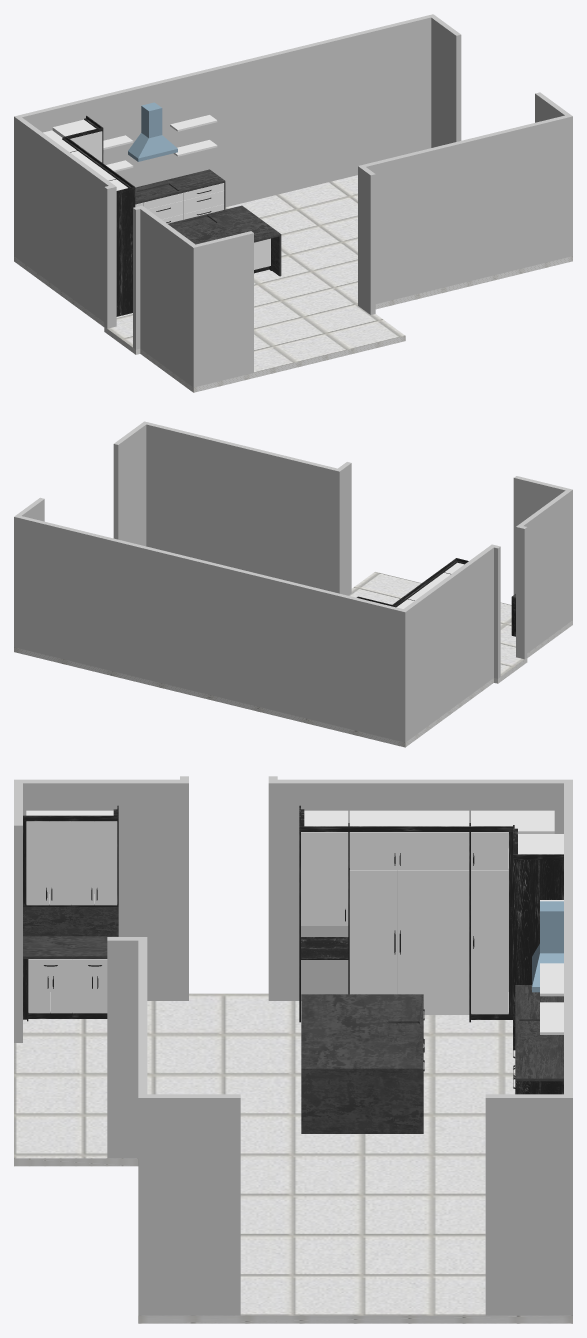
The picture shows the model from 3 angles, top to bottom: view 1: azimuth 30°, elevation 25°; view 2: azimuth 150°, elevation 25°; view 3: azimuth 270°, elevation 25°; orthographic projection. The views are drawn at different scales.
Parts seen in each view (by area): view 1: Layer:wall, Layer:wall.001, Layer:countertop, Layer:doors, Layer:cabinets, Layer:fillers, Layer:hatch, Layer:buildup; view 2: Layer:wall, Layer:wall.001, Layer:buildup, Layer:cabinets; view 3: Layer:wall, Layer:wall.001, Layer:doors, Layer:countertop, Layer:cabinets, Layer:fillers.001, Layer:fillers, Layer:countertop.001, Layer:buildup, Layer:hatch, Layer:LV, Layer:kick.
Part boxes in pixels (x1,y1,x2,y2): Layer:wall: (14, 14, 572, 387); Layer:wall.001: (14, 175, 572, 392); Layer:countertop: (135, 169, 281, 244); Layer:doors: (70, 131, 270, 269); Layer:cabinets: (43, 115, 217, 190); Layer:fillers: (70, 131, 271, 316); Layer:hatch: (128, 102, 177, 161); Layer:buildup: (62, 115, 135, 194); Layer:wall: (14, 421, 572, 742); Layer:wall.001: (14, 572, 572, 747); Layer:buildup: (356, 558, 468, 607); Layer:cabinets: (396, 562, 464, 608); Layer:wall: (14, 776, 572, 1315); Layer:wall.001: (14, 993, 572, 1323); Layer:doors: (26, 821, 508, 1014); Layer:countertop: (23, 936, 563, 1081); Layer:cabinets: (26, 810, 563, 1034); Layer:fillers.001: (301, 1068, 423, 1133); Layer:fillers: (23, 821, 563, 1094); Layer:countertop.001: (23, 907, 118, 936); Layer:buildup: (23, 805, 563, 859); Layer:hatch: (532, 901, 563, 992); Layer:LV: (23, 868, 349, 959); Layer:kick: (28, 1013, 512, 1019).
Size of the model in its own units: 9.69 by 3.17 by 7.12.
6 materials, 3 textured.
